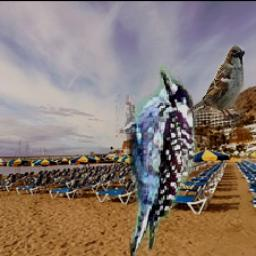Sparrow: (188, 45, 246, 121)
Woodpecker: (105, 59, 206, 256)
